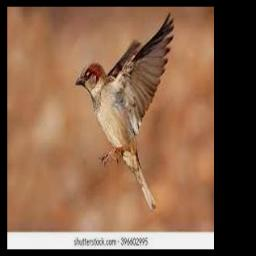Sparrow: (74, 11, 174, 210)
